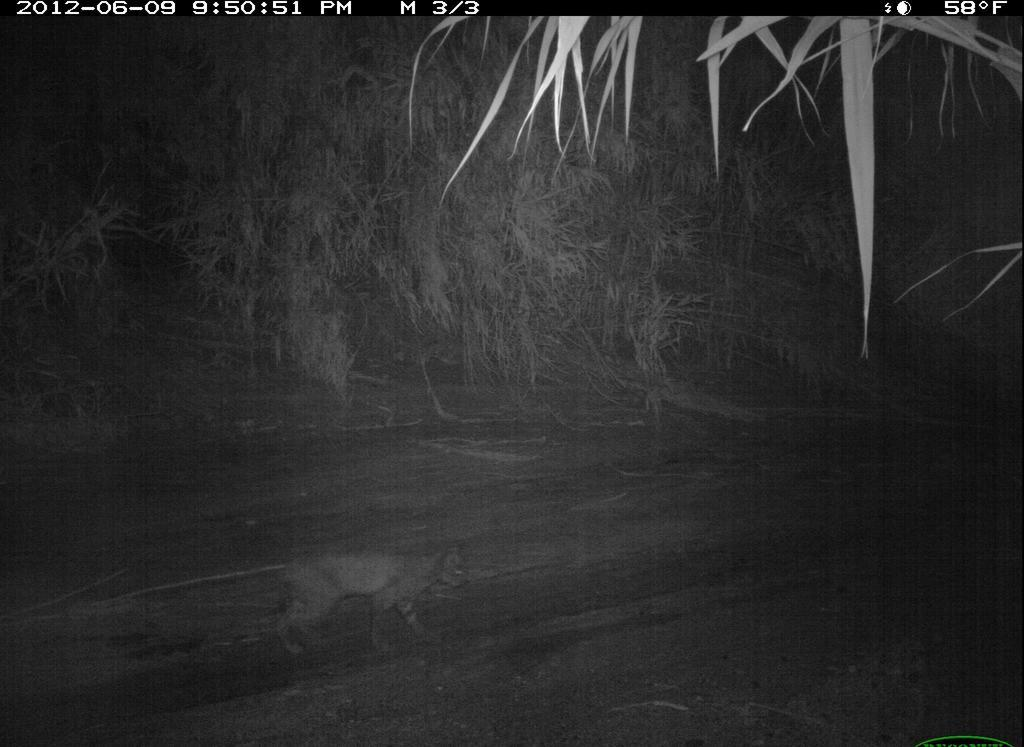bobcat: (254, 539, 481, 667)
